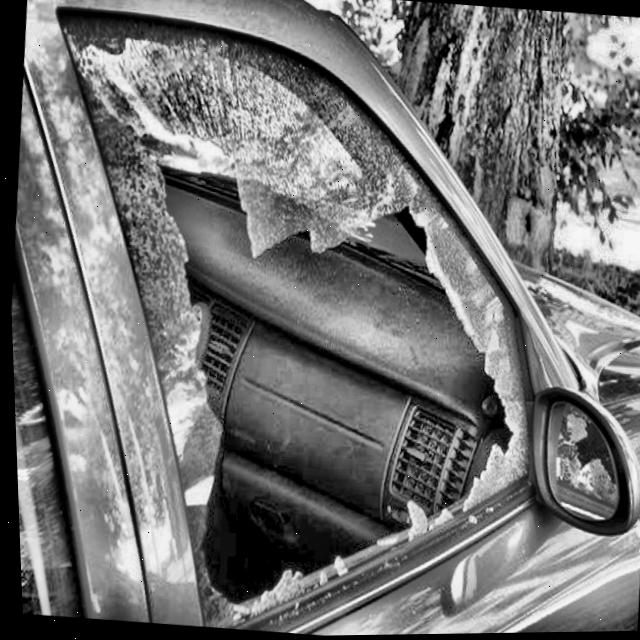glass_shatter: (174, 118, 490, 544), (548, 412, 628, 514)
